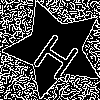H: (30, 24, 88, 83)
